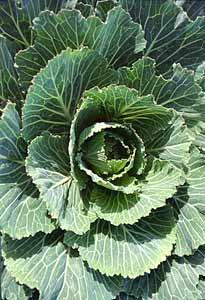cabbage: (72, 121, 156, 184)
